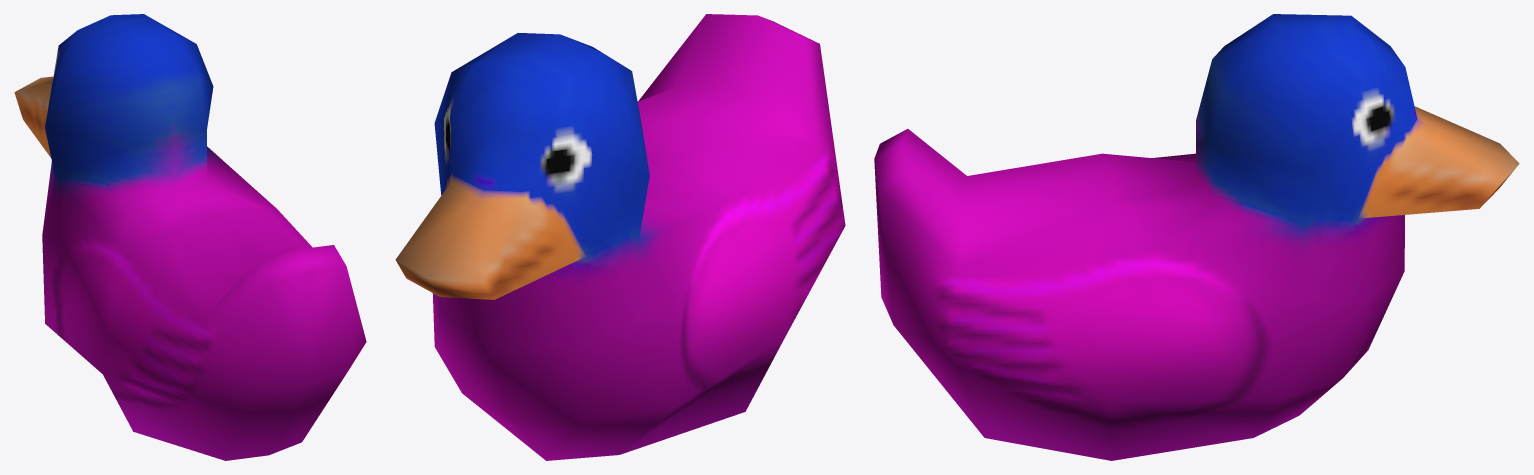
File: duck_gameaholic.FBX
3 renders of one model, left to right at view 1: azimuth 30°, elevation 25°; view 2: azimuth 150°, elevation 25°; view 3: azimuth 270°, elevation 25°, orthographic. The views are drawn at different scales.
Parts seen in each view (by area): view 1: gameaholic; view 2: gameaholic; view 3: gameaholic.
Boxes of the visible parts, box(x1,y1,x2,y2) form: gameaholic: box(14, 14, 366, 460); gameaholic: box(395, 14, 845, 460); gameaholic: box(874, 14, 1519, 460).
Bounding box in the file's own units: 0.1099 × 0.1584 × 0.2373.
